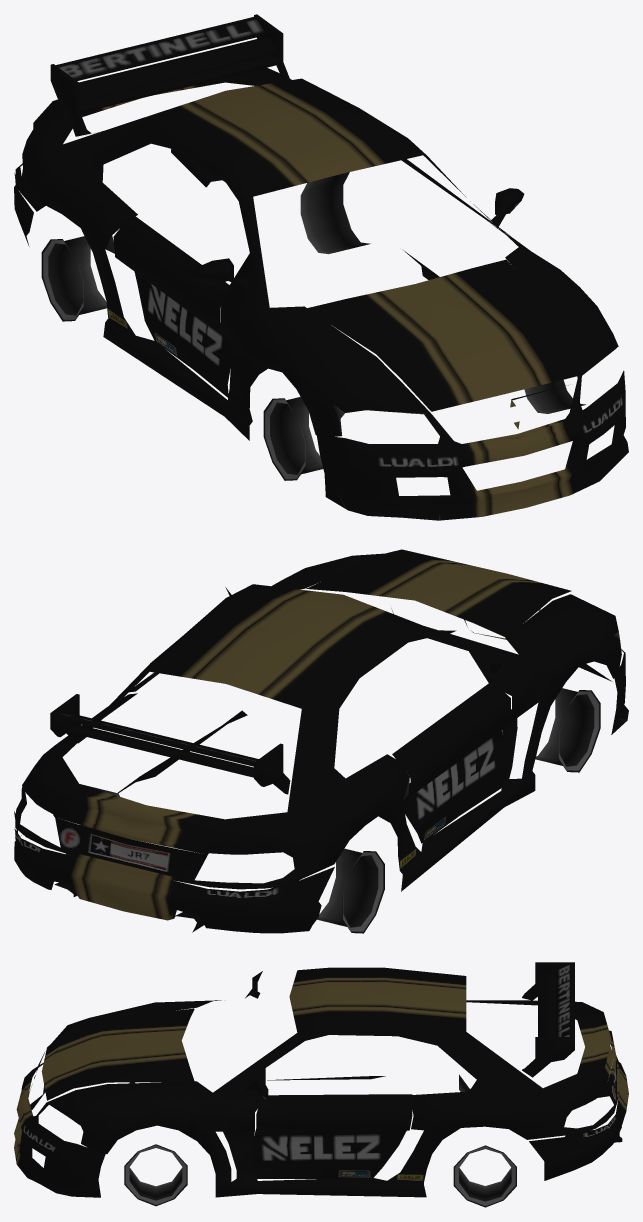
The model's file is car-COMP_Car9.glb.
The picture shows the model from 3 angles, top to bottom: view 1: azimuth 30°, elevation 25°; view 2: azimuth 150°, elevation 25°; view 3: azimuth 270°, elevation 25°; orthographic projection. The views are drawn at different scales.
Parts seen in each view (by area): view 1: COMP_Car9; view 2: COMP_Car9; view 3: COMP_Car9.
Part boxes in pixels (bbox=[...]): COMP_Car9: bbox=[14, 14, 628, 520]; COMP_Car9: bbox=[14, 549, 628, 933]; COMP_Car9: bbox=[14, 962, 628, 1207].
Bounding box in the file's own units: 2.01 × 1.23 × 4.26.
Materials: 19 (19 with a texture image).
